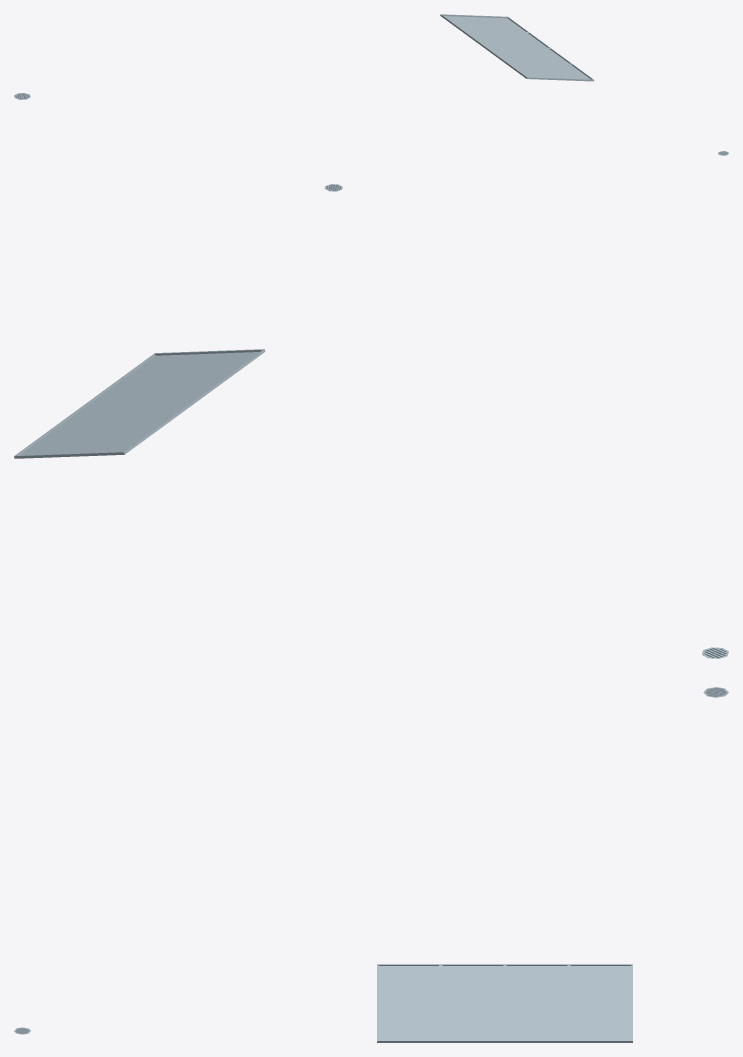
Rendered from kd_stage_135ded_4_71_exterior.glb.
3 views of the same model, one above another, from view 1: azimuth 30°, elevation 25°; view 2: azimuth 150°, elevation 25°; view 3: azimuth 270°, elevation 25° (orthographic). The views are drawn at different scales.
Parts seen in each view (by area): view 1: kd_stage_135ded_4_71_exterior; view 2: kd_stage_135ded_4_71_exterior; view 3: kd_stage_135ded_4_71_exterior.
Boxes of the visible parts, x1,y1,x2,y2 form: kd_stage_135ded_4_71_exterior: (14, 14, 728, 155); kd_stage_135ded_4_71_exterior: (14, 184, 728, 658); kd_stage_135ded_4_71_exterior: (14, 687, 728, 1042).
Size of the model in its own units: 9.63 by 0.3913 by 8.37.
1 material, 1 textured.
